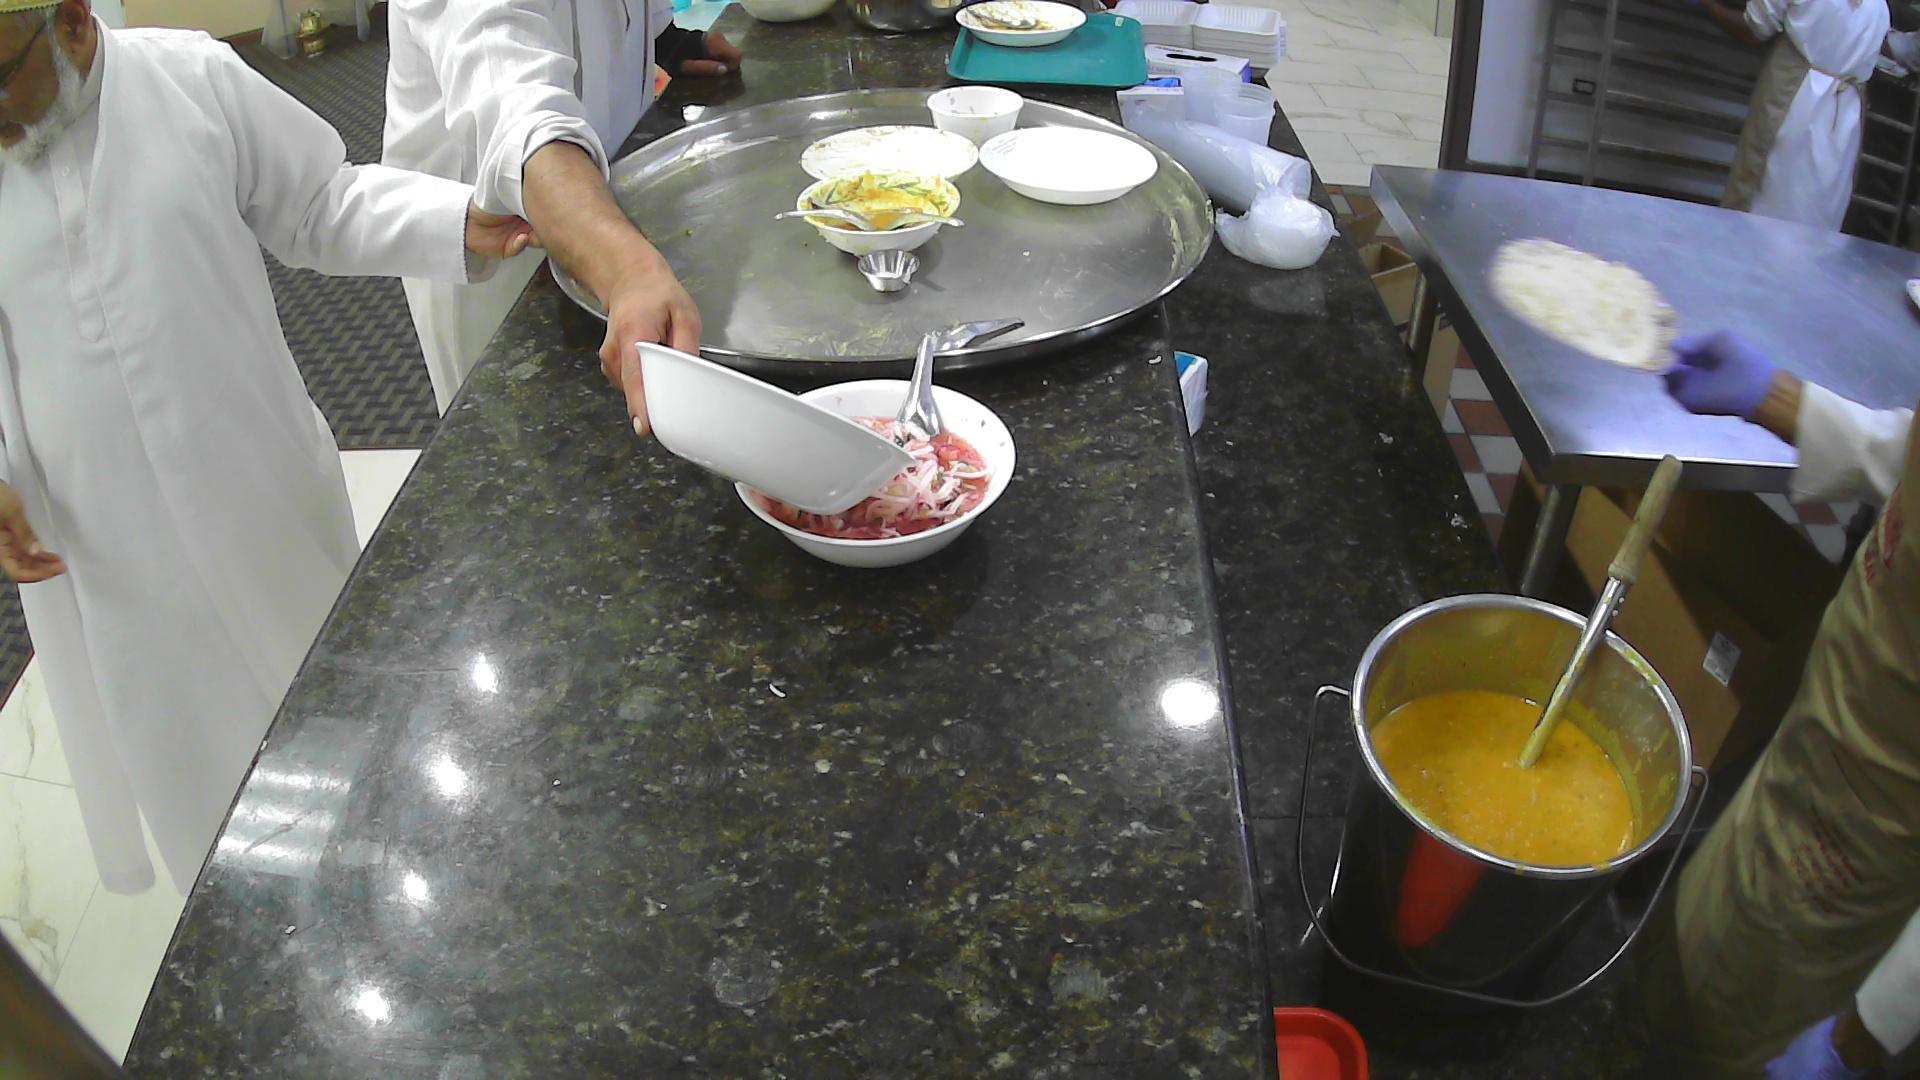thaal: (545, 86, 1218, 382)
